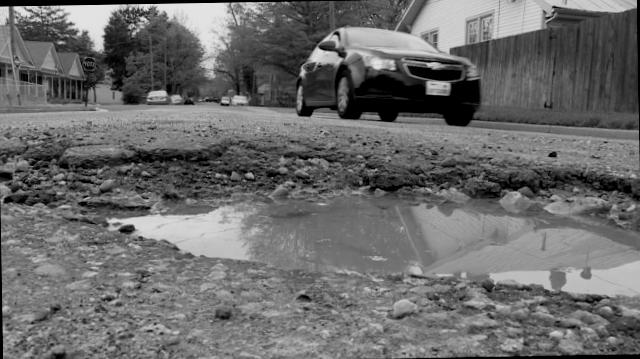Pothole: (7, 126, 640, 305)
